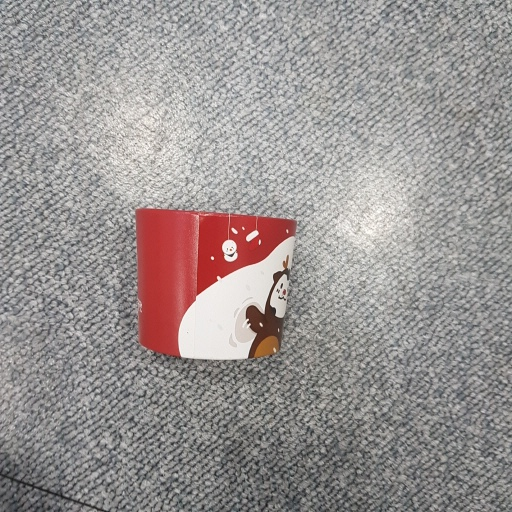Paper_0: (128, 203, 316, 374)
